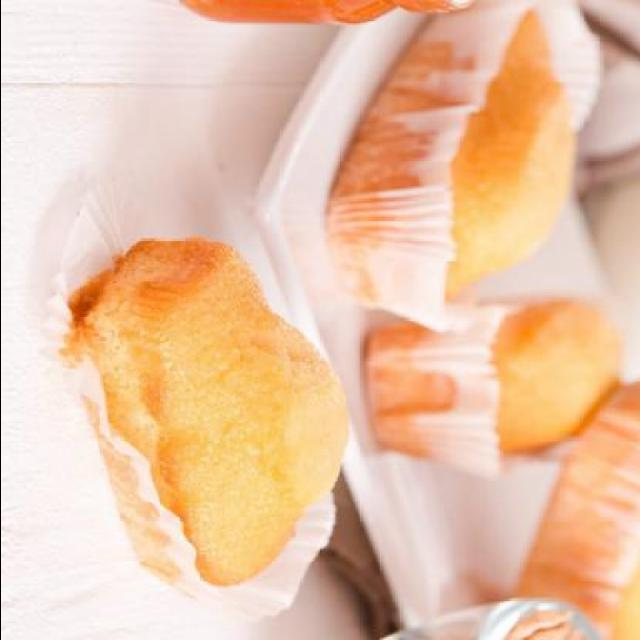Merendine packaged: (70, 230, 353, 614), (302, 7, 594, 330), (353, 286, 627, 485)
